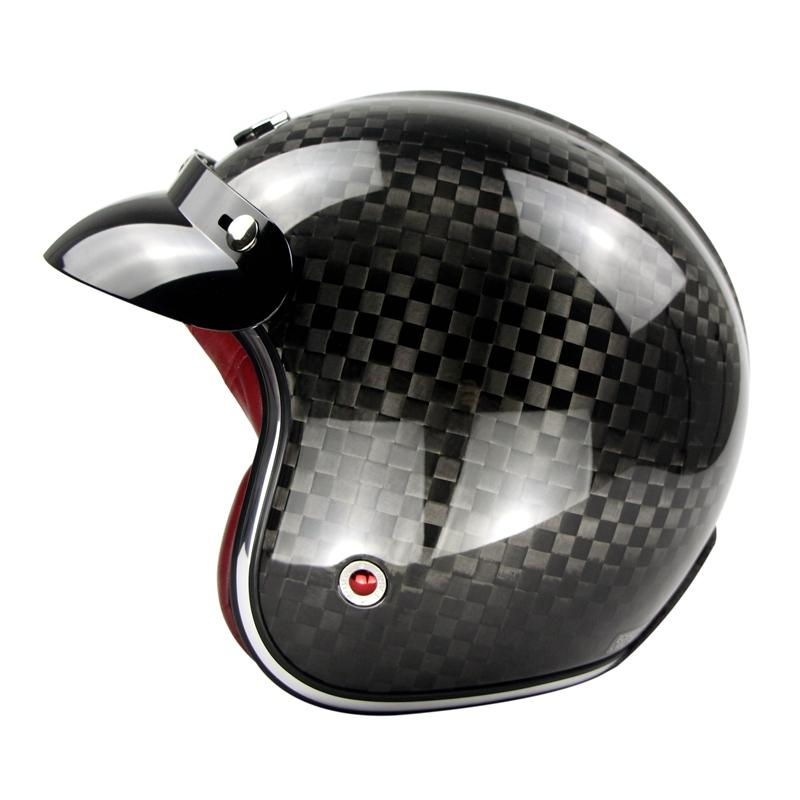with_helmet: (40, 87, 760, 710)
